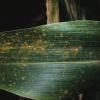Corn rust leaf: (0, 22, 99, 99)
